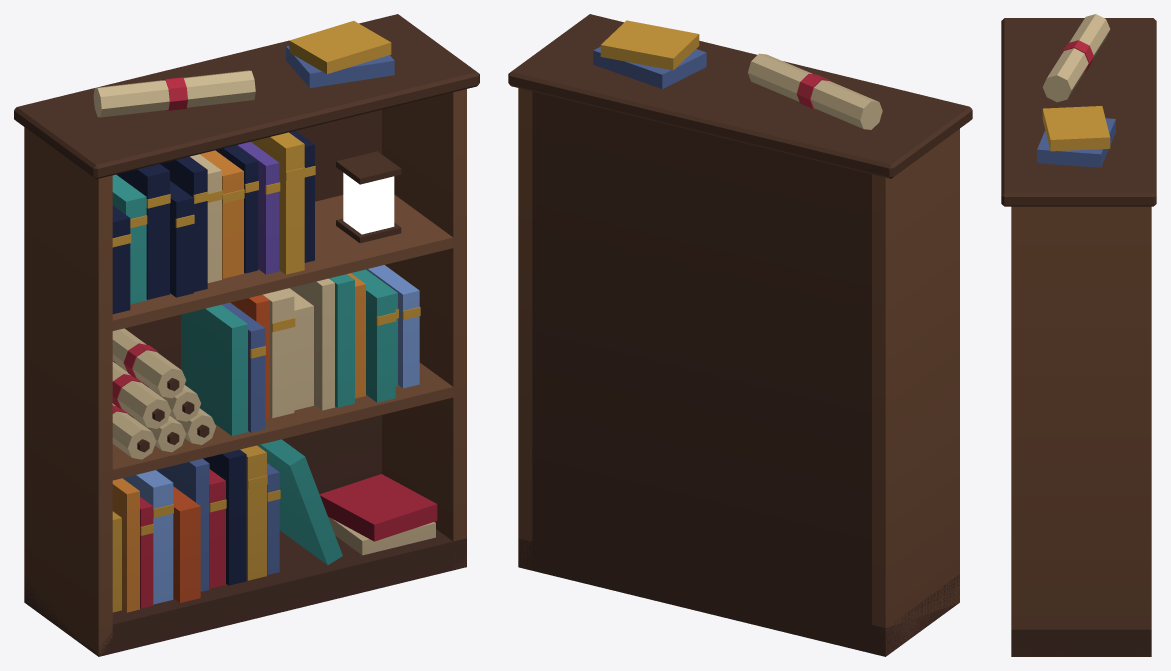
Rendered from bookshelf.glb.
3 views of the same model, side by side, from view 1: azimuth 30°, elevation 25°; view 2: azimuth 150°, elevation 25°; view 3: azimuth 270°, elevation 25° (orthographic). The views are drawn at different scales.
Visible parts, largest first — view 1: Bookshelf; view 2: Bookshelf; view 3: Bookshelf.
Boxes of the visible parts, x1=… form: Bookshelf: x1=14, y1=14, x2=479, y2=656; Bookshelf: x1=508, y1=14, x2=972, y2=656; Bookshelf: x1=1001, y1=14, x2=1156, y2=656.
Size of the model in its own units: 0.84 by 1.09 by 0.31.
